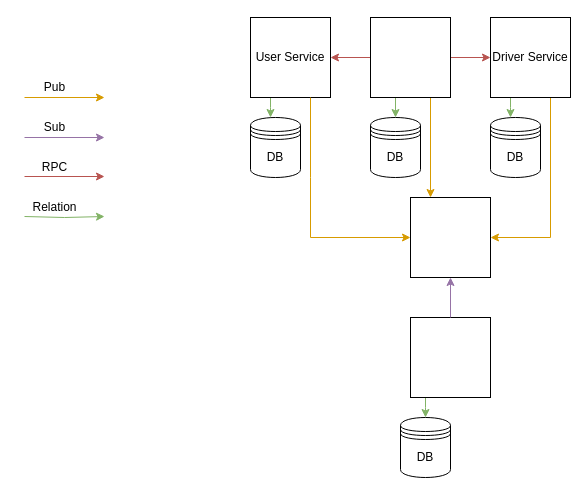
The diagram is 588 pixels wide and 495 high, and some of its shapes have lost their labels. Each missing label, with the centre of its shape:
"Analytics service" belongs at pixel 450 357.
"Kafka" belongs at pixel 450 237.
"Order Service" belongs at pixel 410 57.
